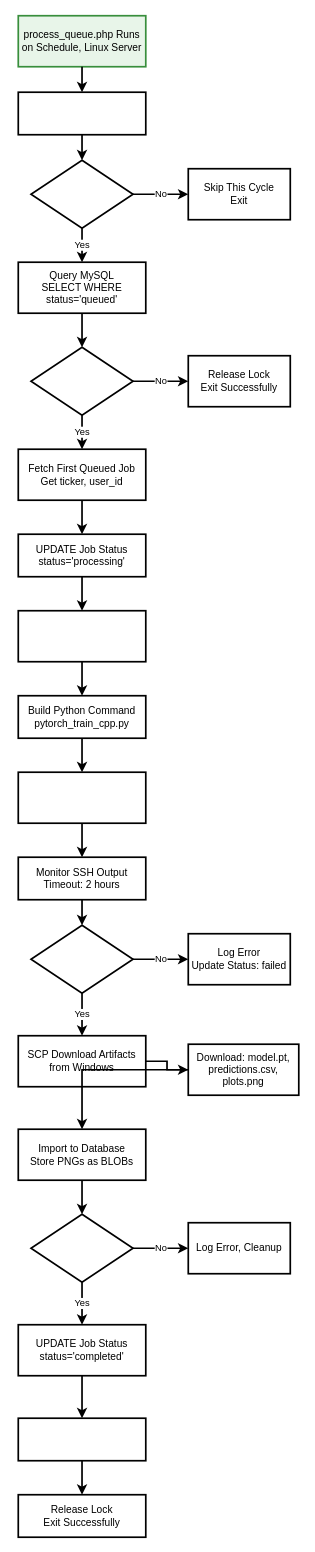
The diagram is 315 pixels wide and 1552 high, and some of its shapes have lost their labels. The centre of each missing label's shape, as x and y in pixels:
Acquire Lock One Job at a Time: the point at 81,113
Any Jobs Queued?: the point at 81,381
Execute via SSH run_remote_prediction_job.py: the point at 81,797
Import Success?: the point at 81,1248
Lock Acquired?: the point at 81,194
Prepare SSH Command Windows Machine IP: the point at 81,635
Training Success?: the point at 81,959
Update UI Cache Notify User: the point at 81,1439
